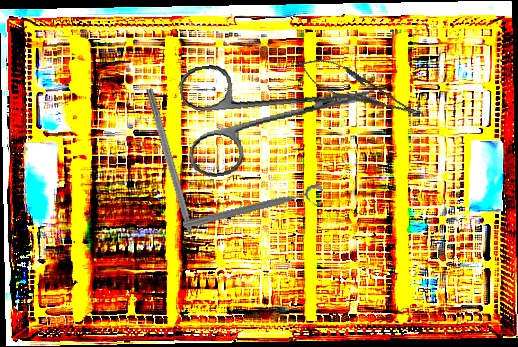Fixation Ring: (181, 182, 327, 241)
Hook Surgical: (143, 87, 202, 259)
Iris Scissors: (177, 43, 384, 180)
Needle Holder: (293, 49, 427, 130)
